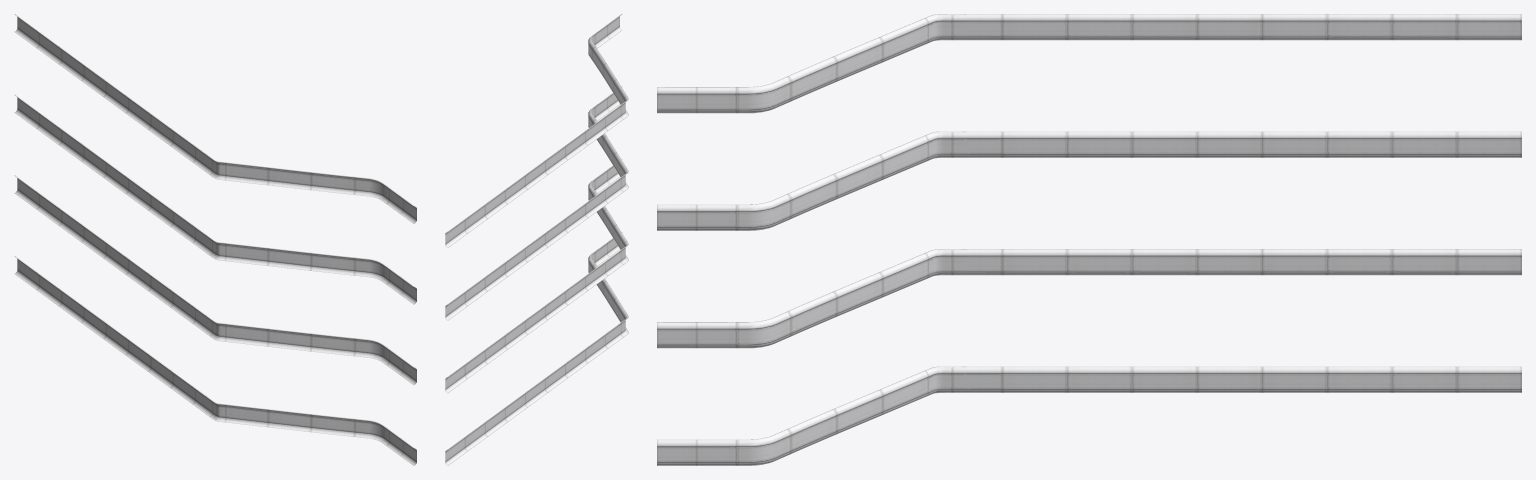
Rendered from RearFAC_Sup04.FBX.
3 views of the same model, side by side, from view 1: azimuth 30°, elevation 25°; view 2: azimuth 150°, elevation 25°; view 3: azimuth 270°, elevation 25° (orthographic). The views are drawn at different scales.
Parts seen in each view (by area): view 1: RearFAC_Sup04; view 2: RearFAC_Sup04; view 3: RearFAC_Sup04.
Part boxes in pixels (x1,y1,x2,y2): RearFAC_Sup04: (14, 14, 416, 465); RearFAC_Sup04: (445, 14, 628, 465); RearFAC_Sup04: (657, 14, 1521, 465).
Bounding box in the file's own units: 8.24 × 19.3 × 40.02.
